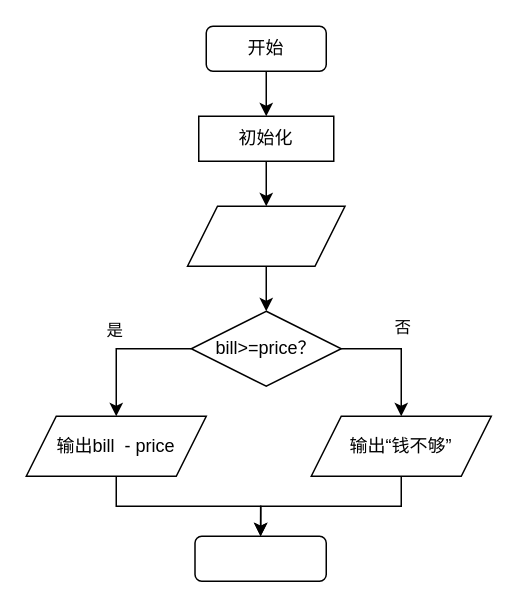
Image size: 518x608. Some labels were removed from this diagram. Here are the shapes that lost their labels. From the top down, the box of each, then its label:
(186, 205, 345, 266): 输入price和bill
(194, 535, 326, 581): 结束
